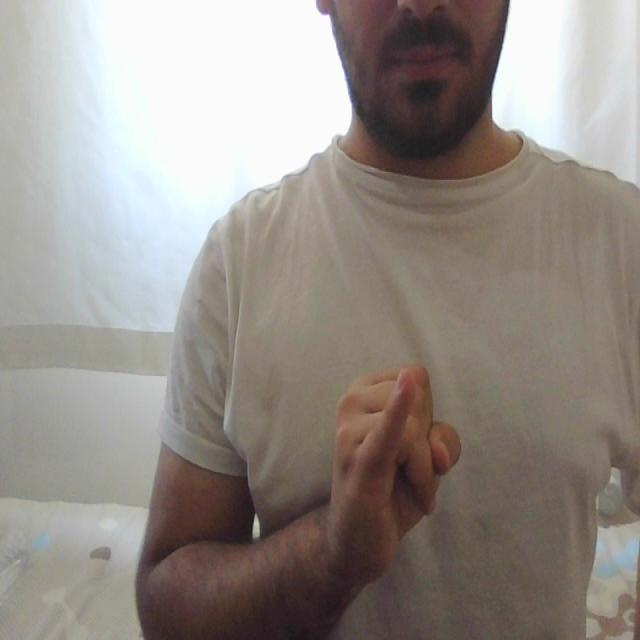kotu: (323, 350, 465, 543)
